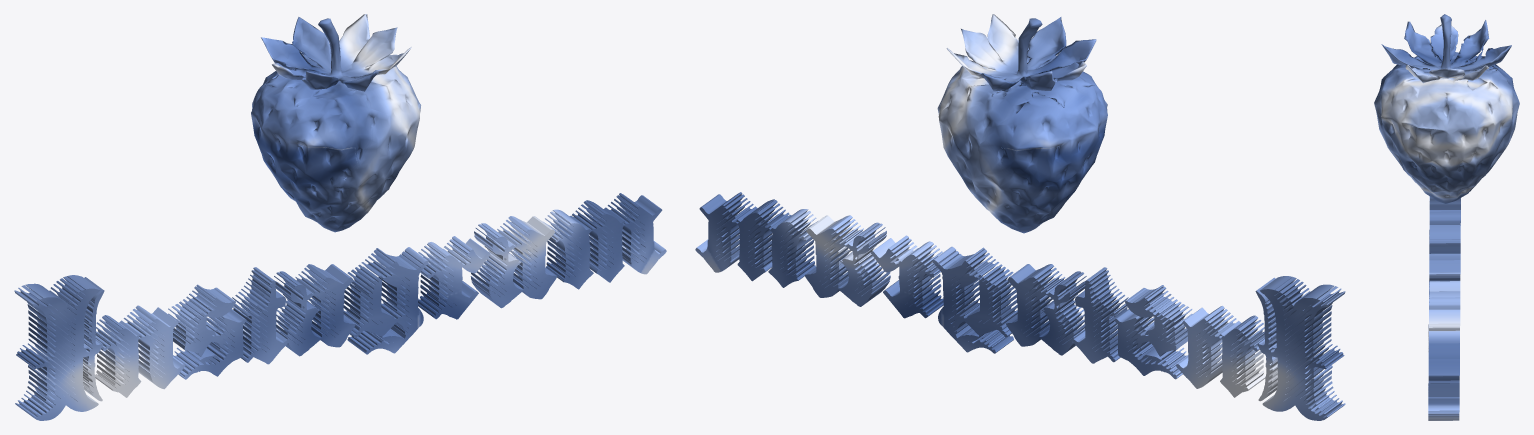
Rendered from instagram.glb.
3 renders of one model, left to right at view 1: azimuth 30°, elevation 25°; view 2: azimuth 150°, elevation 25°; view 3: azimuth 270°, elevation 25°, orthographic. The views are drawn at different scales.
Visible parts, largest first — view 1: Instagram, Mesh1; view 2: Instagram, Mesh1; view 3: Mesh1, Instagram.
Part boxes in pixels (left/top/right/bottom): Instagram: left=14, top=193, right=666, bottom=420; Mesh1: left=251, top=14, right=420, bottom=232; Instagram: left=695, top=192, right=1345, bottom=420; Mesh1: left=937, top=14, right=1107, bottom=233; Mesh1: left=1374, top=14, right=1519, bottom=203; Instagram: left=1428, top=196, right=1460, bottom=420.
Size of the model in its own units: 6.12 by 3.15 by 1.43.
2 materials, 2 textured.
